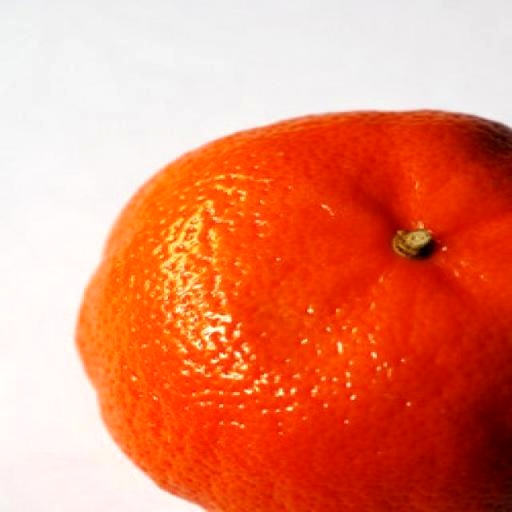fruit: (34, 160, 120, 512)
